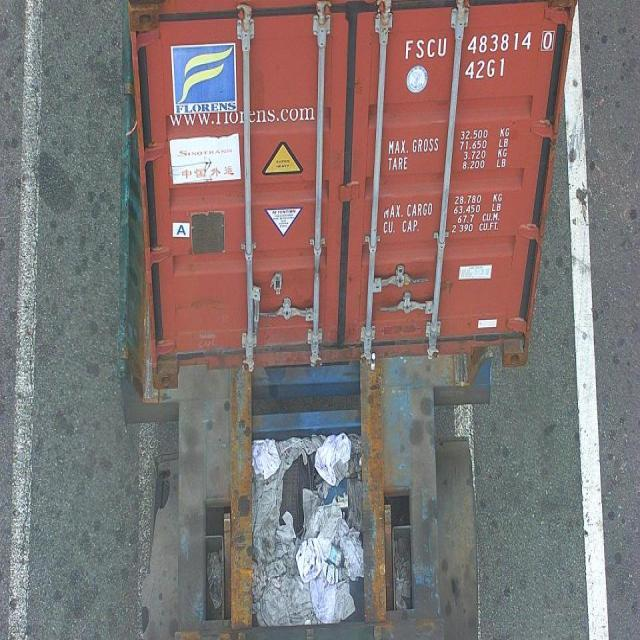ISO: (466, 60, 508, 78)
container_number: (403, 32, 548, 61)
